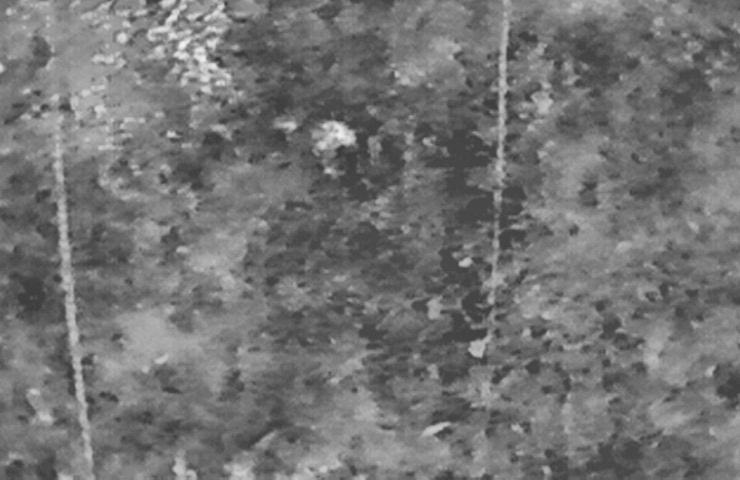landmines: (315, 114, 364, 165)
